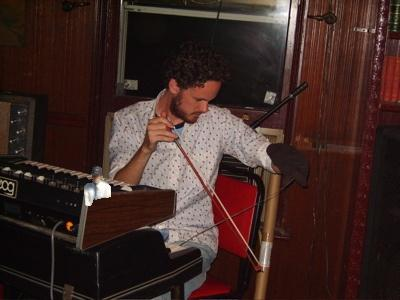tampered: (85, 167, 111, 206)
